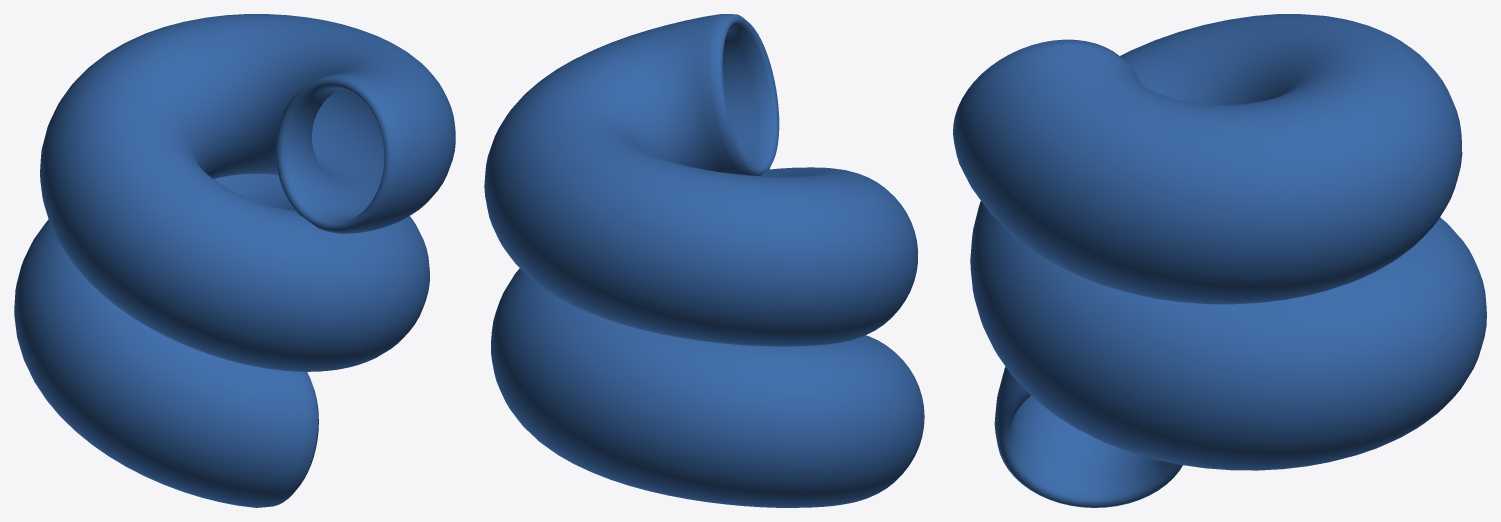
3 renders of one model, left to right at view 1: azimuth 30°, elevation 25°; view 2: azimuth 150°, elevation 25°; view 3: azimuth 270°, elevation 25°, orthographic. The views are drawn at different scales.
Parts seen in each view (by area): view 1: Spiral.002; view 2: Spiral.002; view 3: Spiral.002.
Boxes of the visible parts, <box> form: Spiral.002: <box>14,14,455,507</box>; Spiral.002: <box>484,14,924,507</box>; Spiral.002: <box>953,14,1486,507</box>.
Bounding box in the file's own units: 21.99 × 23.24 × 21.8.
